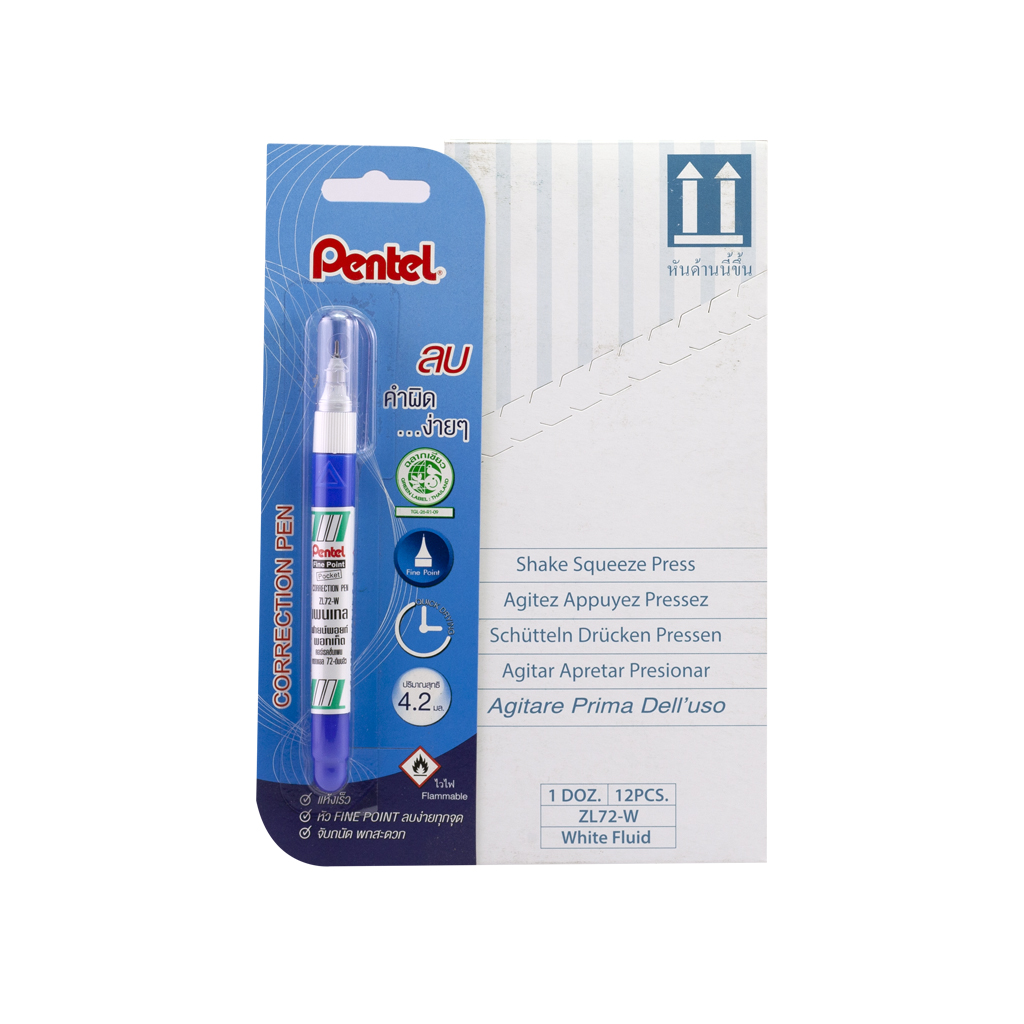Correction_fluid: (302, 308, 386, 807)
